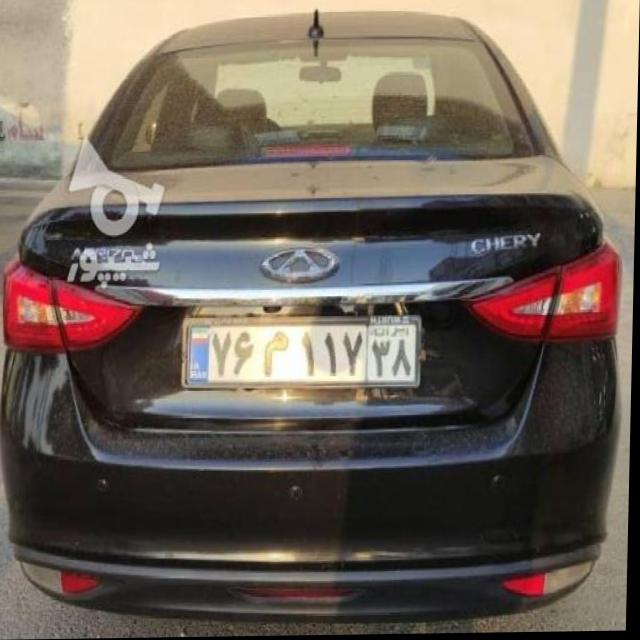licence: (179, 316, 427, 392)
